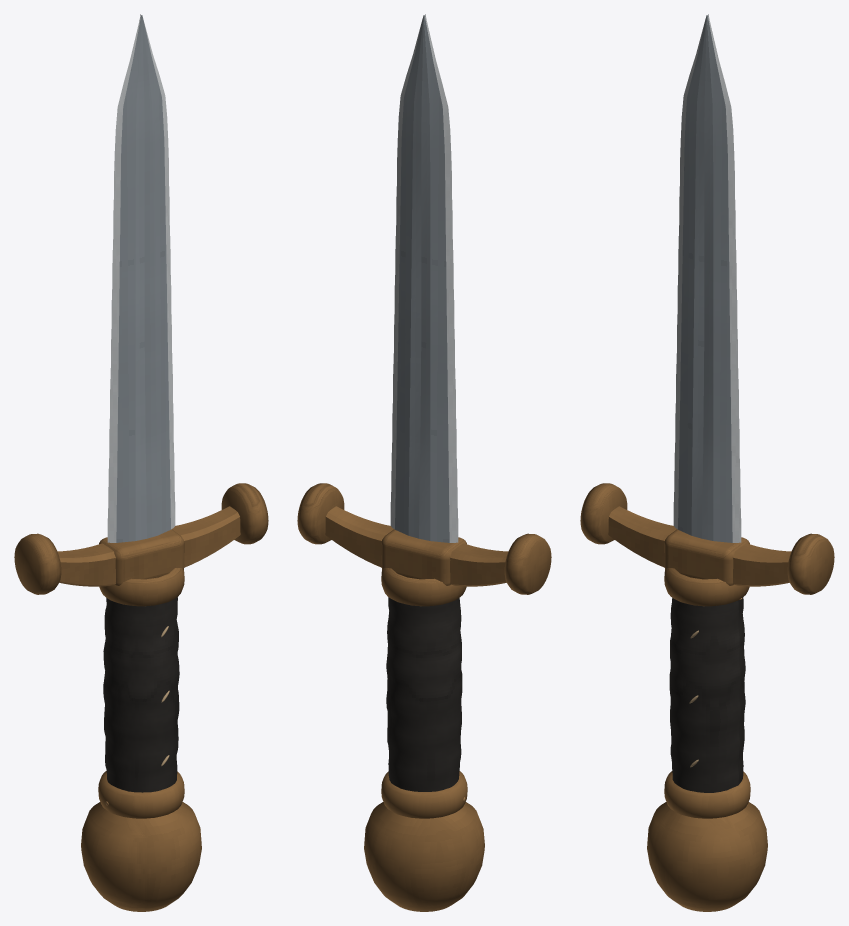
File: dagger.lod1.glb
The picture shows the model from 3 angles, left to right: view 1: azimuth 30°, elevation 25°; view 2: azimuth 150°, elevation 25°; view 3: azimuth 330°, elevation 25°; orthographic projection.
Visible parts, largest first — view 1: bronze / cast bronze with patina, steel / forged blade steel, leather / oiled leather wrap, edge / honed bright bevel; view 2: bronze / cast bronze with patina, steel / forged blade steel, leather / oiled leather wrap, edge / honed bright bevel; view 3: bronze / cast bronze with patina, steel / forged blade steel, leather / oiled leather wrap, edge / honed bright bevel.
Boxes of the visible parts, bbox=[...] form: bronze / cast bronze with patina: bbox=[14, 483, 268, 911]; steel / forged blade steel: bbox=[116, 14, 170, 542]; leather / oiled leather wrap: bbox=[103, 597, 179, 792]; edge / honed bright bevel: bbox=[107, 15, 175, 542]; bronze / cast bronze with patina: bbox=[297, 483, 551, 911]; steel / forged blade steel: bbox=[395, 14, 449, 542]; leather / oiled leather wrap: bbox=[386, 597, 462, 791]; edge / honed bright bevel: bbox=[390, 15, 458, 542]; bronze / cast bronze with patina: bbox=[580, 483, 834, 911]; steel / forged blade steel: bbox=[678, 14, 732, 542]; leather / oiled leather wrap: bbox=[669, 597, 745, 792]; edge / honed bright bevel: bbox=[673, 15, 741, 542].
Bounding box in the file's own units: 0.1109 × 0.41 × 0.0507.
Materials: 6 (4 with a texture image).
